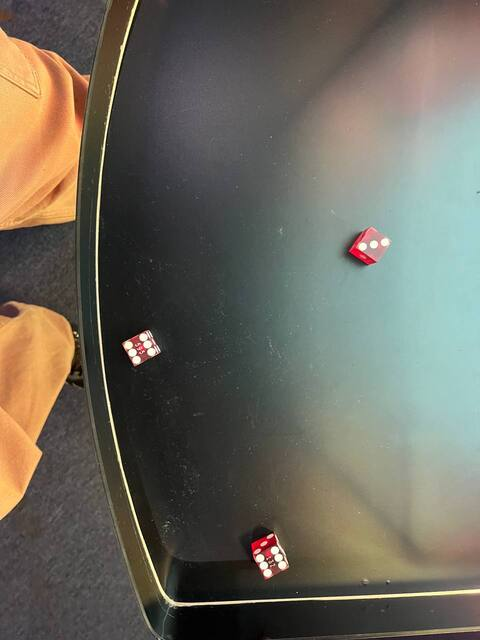six: (119, 329, 161, 373), (252, 543, 290, 582)
three: (353, 227, 392, 263)
